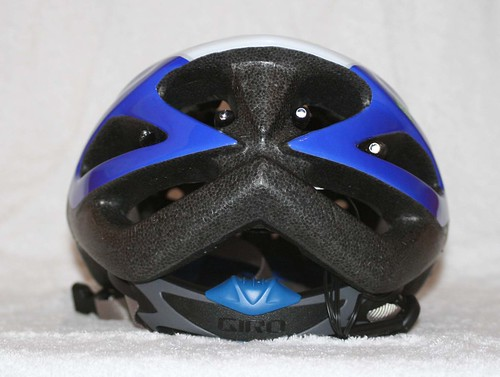helmet: (78, 21, 463, 185)
